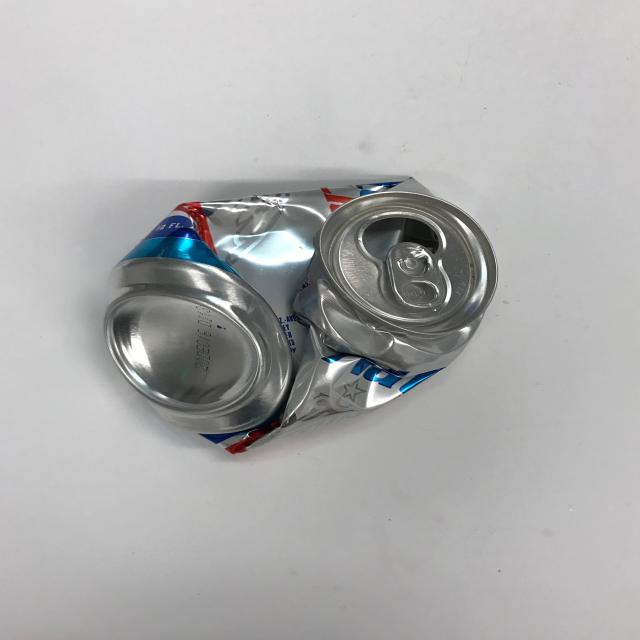metal: (102, 177, 498, 454)
